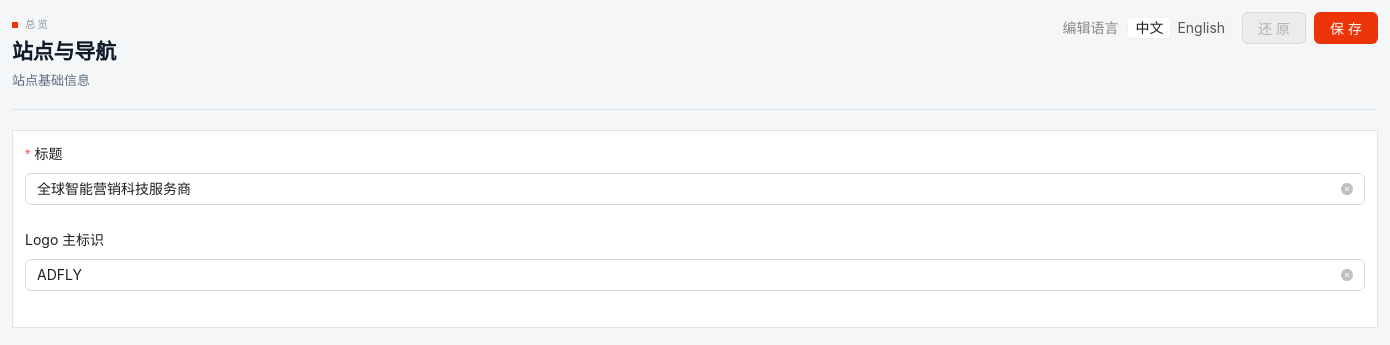
Test case: ContentEditor › E4 保存失败时提示错误信息
Click the button with test id "content-save" at (1346,28), box [1314, 12, 1378, 44]
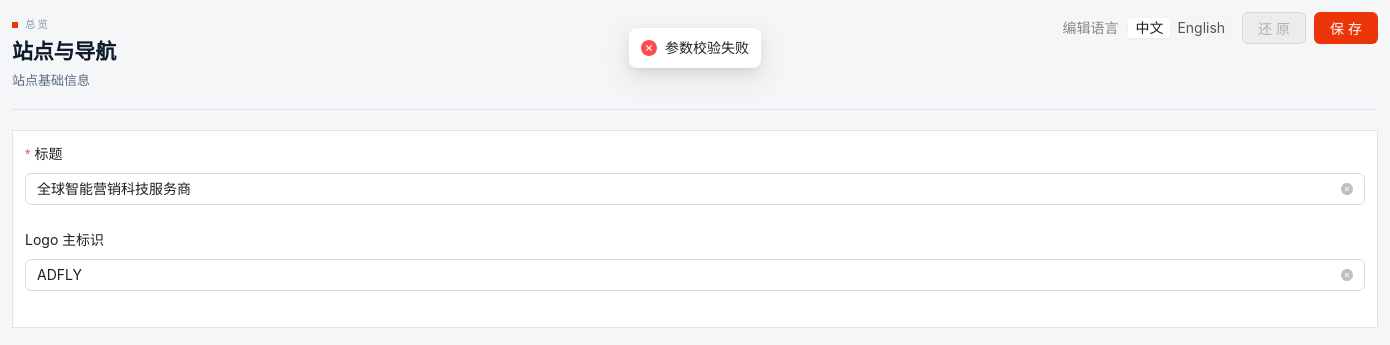
Expected: the text "参数校验失败" is shown, [665, 37, 749, 59]
